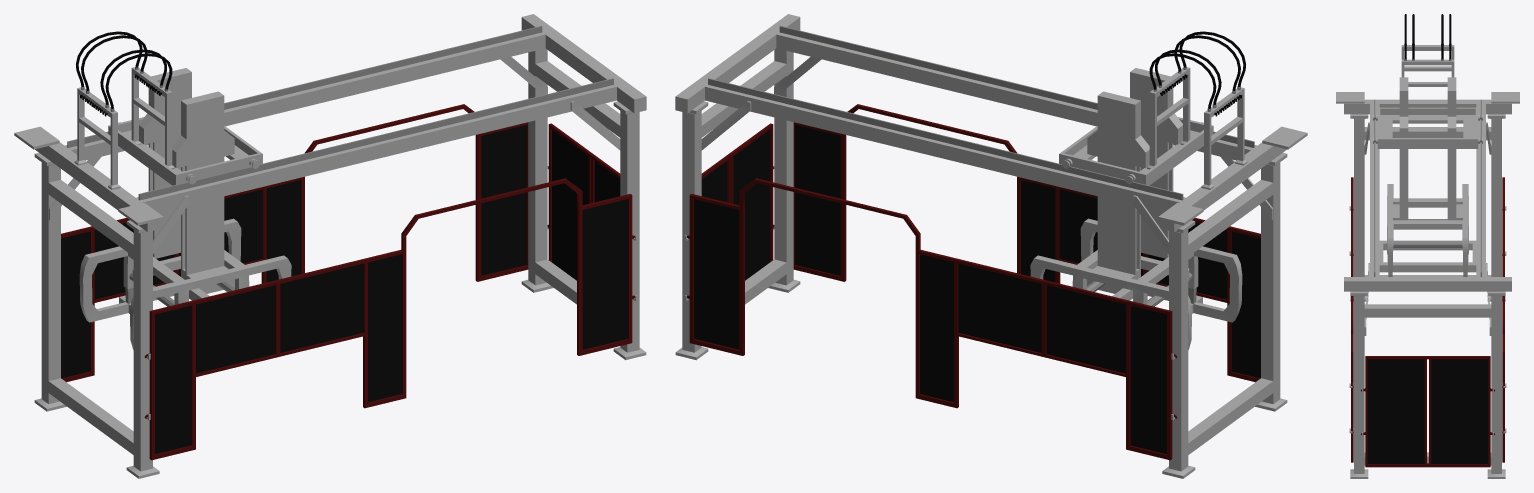
The model's file is SM_ProdLine_Press_F.FBX.
3 renders of one model, left to right at view 1: azimuth 30°, elevation 25°; view 2: azimuth 150°, elevation 25°; view 3: azimuth 270°, elevation 25°, orthographic. The views are drawn at different scales.
Visible parts, largest first — view 1: SM_ProdLine_Press_F_LOD0; view 2: SM_ProdLine_Press_F_LOD0; view 3: SM_ProdLine_Press_F_LOD0.
Boxes of the visible parts, bbox=[...] form: SM_ProdLine_Press_F_LOD0: bbox=[14, 14, 646, 478]; SM_ProdLine_Press_F_LOD0: bbox=[675, 14, 1307, 478]; SM_ProdLine_Press_F_LOD0: bbox=[1336, 14, 1519, 478].
Bounding box in the file's own units: 501 × 206 × 358.
